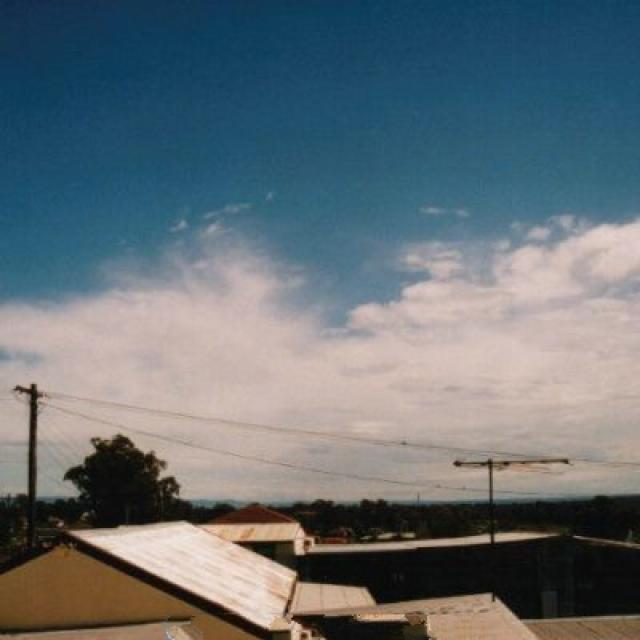Cs: (1, 147, 640, 409)
